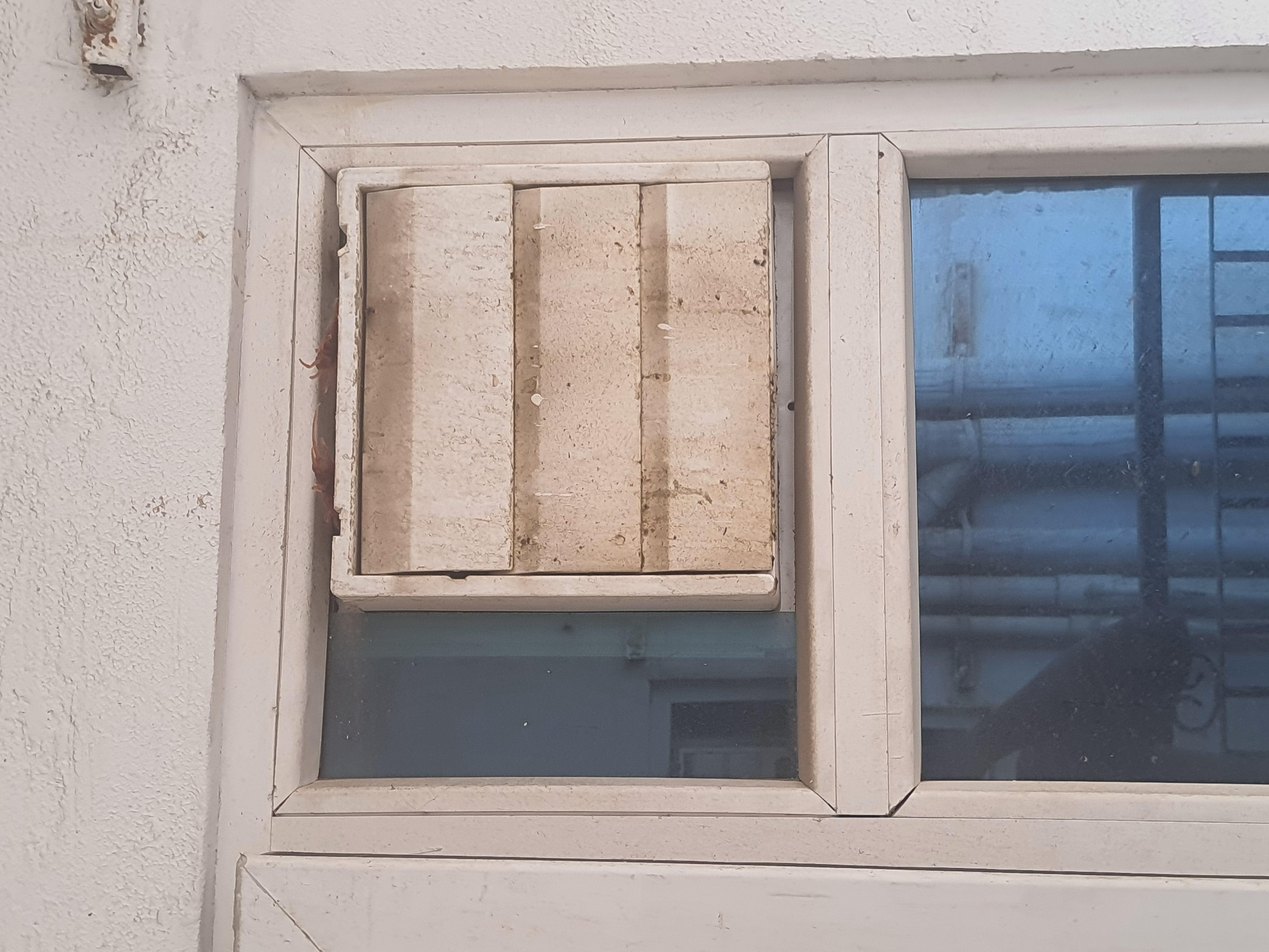cockroach: (766, 219, 864, 263), (579, 223, 689, 259)
